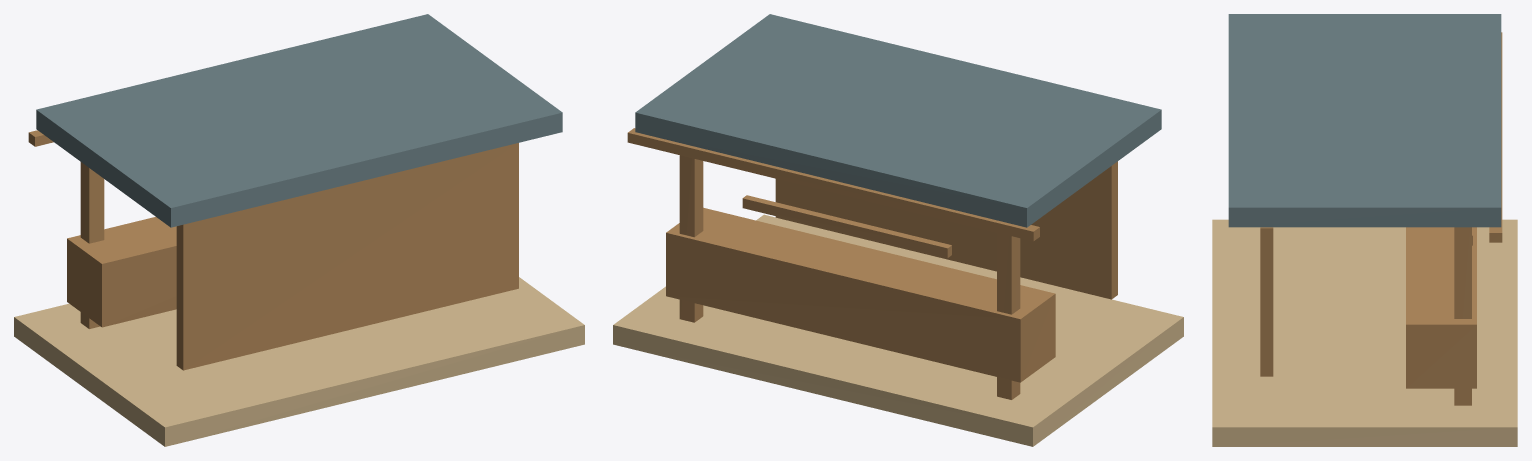
Rendered from Roadside-Stand.glb.
The picture shows the model from 3 angles, left to right: view 1: azimuth 30°, elevation 25°; view 2: azimuth 150°, elevation 25°; view 3: azimuth 270°, elevation 25°; orthographic projection.
Parts seen in each view (by area): view 1: roadside-stand-static-roadside-stand-iron, roadside-stand-static-roadside-stand-timber, roadside-stand-static-roadside-stand-cream; view 2: roadside-stand-static-roadside-stand-iron, roadside-stand-static-roadside-stand-timber, roadside-stand-static-roadside-stand-cream, roadside-stand-static-roadside-stand-teal, roadside-stand-static-roadside-stand-galv; view 3: roadside-stand-static-roadside-stand-iron, roadside-stand-static-roadside-stand-cream, roadside-stand-static-roadside-stand-timber, roadside-stand-static-roadside-stand-teal.
Boxes of the visible parts, x1=… form: roadside-stand-static-roadside-stand-iron: x1=36, y1=14, x2=562, y2=227; roadside-stand-static-roadside-stand-timber: x1=67, y1=143, x2=518, y2=370; roadside-stand-static-roadside-stand-cream: x1=14, y1=277, x2=584, y2=446; roadside-stand-static-roadside-stand-iron: x1=635, y1=14, x2=1161, y2=227; roadside-stand-static-roadside-stand-timber: x1=666, y1=155, x2=1117, y2=399; roadside-stand-static-roadside-stand-cream: x1=613, y1=214, x2=1183, y2=446; roadside-stand-static-roadside-stand-teal: x1=627, y1=128, x2=1039, y2=241; roadside-stand-static-roadside-stand-galv: x1=742, y1=195, x2=951, y2=257; roadside-stand-static-roadside-stand-iron: x1=1228, y1=14, x2=1501, y2=227; roadside-stand-static-roadside-stand-cream: x1=1212, y1=219, x2=1517, y2=446; roadside-stand-static-roadside-stand-timber: x1=1260, y1=227, x2=1476, y2=405; roadside-stand-static-roadside-stand-teal: x1=1489, y1=32, x2=1502, y2=242.
Bounding box in the file's own units: 4.5 × 2.35 × 2.8.
